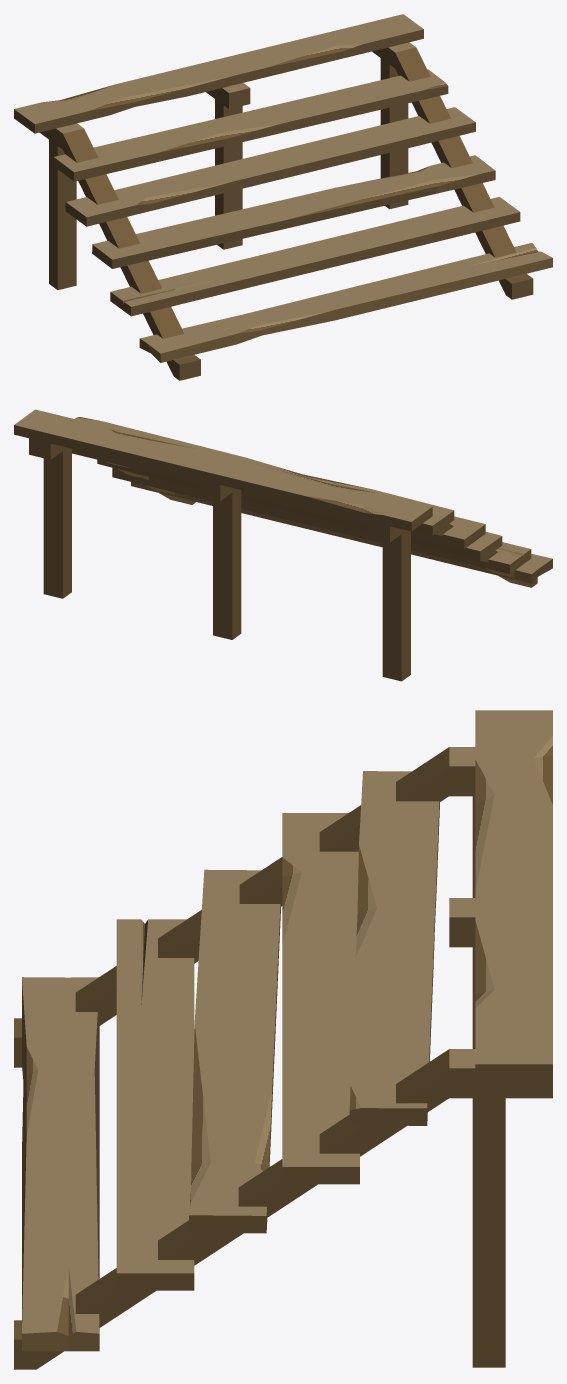
The model's file is model_wood_steps.fbx.
3 renders of one model, top to bottom at view 1: azimuth 30°, elevation 25°; view 2: azimuth 150°, elevation 25°; view 3: azimuth 270°, elevation 25°, orthographic. The views are drawn at different scales.
Visible parts, largest first — view 1: model_wood_steps; view 2: model_wood_steps; view 3: model_wood_steps.
Part boxes in pixels (left/top/right/bottom): model_wood_steps: left=14, top=14, right=552, bottom=380; model_wood_steps: left=14, top=409, right=552, bottom=681; model_wood_steps: left=14, top=710, right=552, bottom=1369.
Size of the model in its own units: 209 by 86.14 by 132.
1 material, 1 textured.
